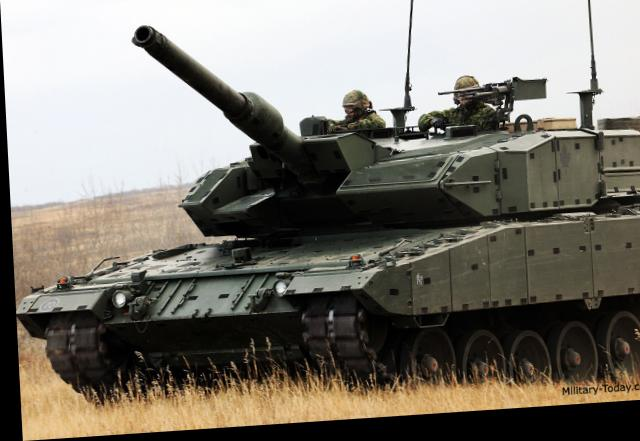other: (313, 72, 392, 163), (438, 59, 525, 120)
tank: (34, 102, 640, 416)
